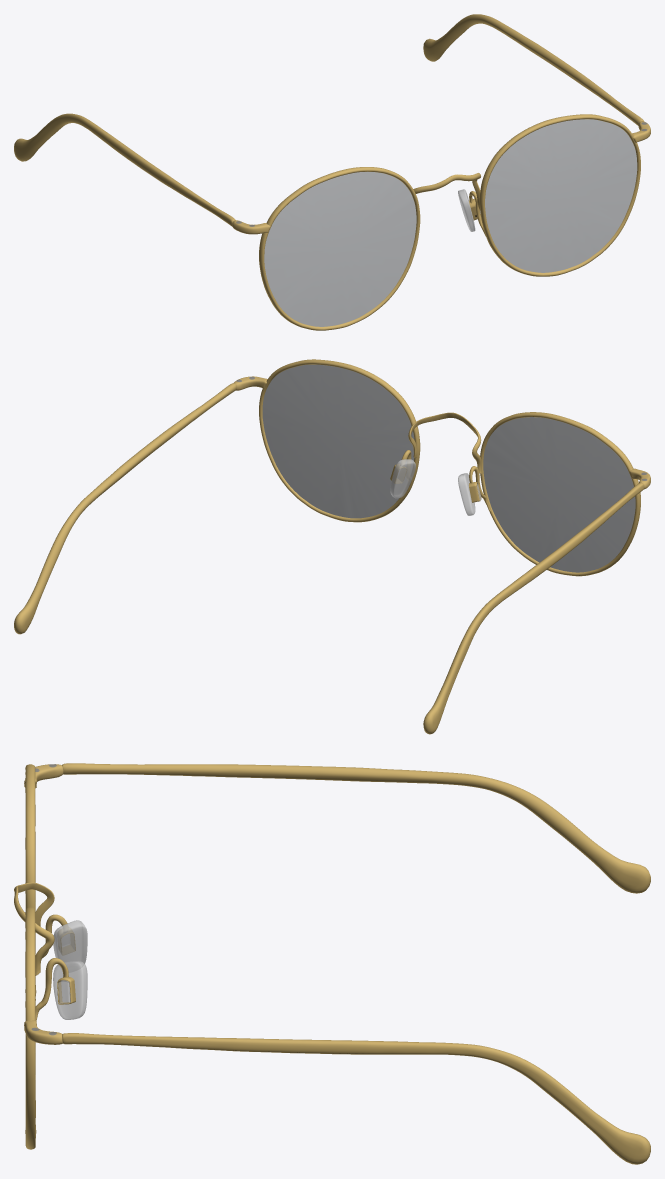
Rendered from optico-redondo-dorado.glb.
The picture shows the model from 3 angles, top to bottom: view 1: azimuth 30°, elevation 25°; view 2: azimuth 150°, elevation 25°; view 3: azimuth 270°, elevation 25°; orthographic projection. The views are drawn at different scales.
Parts seen in each view (by area): view 1: MOSCOT_ZEV_TT_SE_MOSCOT_ZEV_TT_SE_0, Temples_Temples_0, Rims_Rims_0, EndPieces_EndPieces_0, NosePars_NosePars_0, Bridge_Bridge_0; view 2: MOSCOT_ZEV_TT_SE_MOSCOT_ZEV_TT_SE_0, Temples_Temples_0, Rims_Rims_0, NosePars_NosePars_0, Bridge_Bridge_0, EndPieces_EndPieces_0; view 3: Temples_Temples_0, Rims_Rims_0, NosePars_NosePars_0, Bridge_Bridge_0, EndPieces_EndPieces_0.
Part boxes in pixels (left/top/right/bottom): MOSCOT_ZEV_TT_SE_MOSCOT_ZEV_TT_SE_0: left=264, top=119, right=637, bottom=326; Temples_Temples_0: left=14, top=14, right=643, bottom=226; Rims_Rims_0: left=259, top=114, right=640, bottom=330; EndPieces_EndPieces_0: left=232, top=121, right=650, bottom=234; NosePars_NosePars_0: left=458, top=189, right=485, bottom=236; Bridge_Bridge_0: left=413, top=173, right=480, bottom=210; MOSCOT_ZEV_TT_SE_MOSCOT_ZEV_TT_SE_0: left=262, top=364, right=635, bottom=572; Temples_Temples_0: left=14, top=383, right=644, bottom=734; Rims_Rims_0: left=259, top=359, right=640, bottom=576; NosePars_NosePars_0: left=390, top=450, right=490, bottom=515; Bridge_Bridge_0: left=408, top=412, right=481, bottom=473; EndPieces_EndPieces_0: left=233, top=376, right=650, bottom=489; Temples_Temples_0: left=62, top=763, right=650, bottom=1164; Rims_Rims_0: left=25, top=764, right=36, bottom=1149; NosePars_NosePars_0: left=35, top=914, right=87, bottom=1021; Bridge_Bridge_0: left=14, top=882, right=54, bottom=975; EndPieces_EndPieces_0: left=24, top=764, right=63, bottom=1044.
Bounding box in the file's own units: 0.134 × 0.0477 × 0.1296.
Materials: 6 (2 with a texture image).
